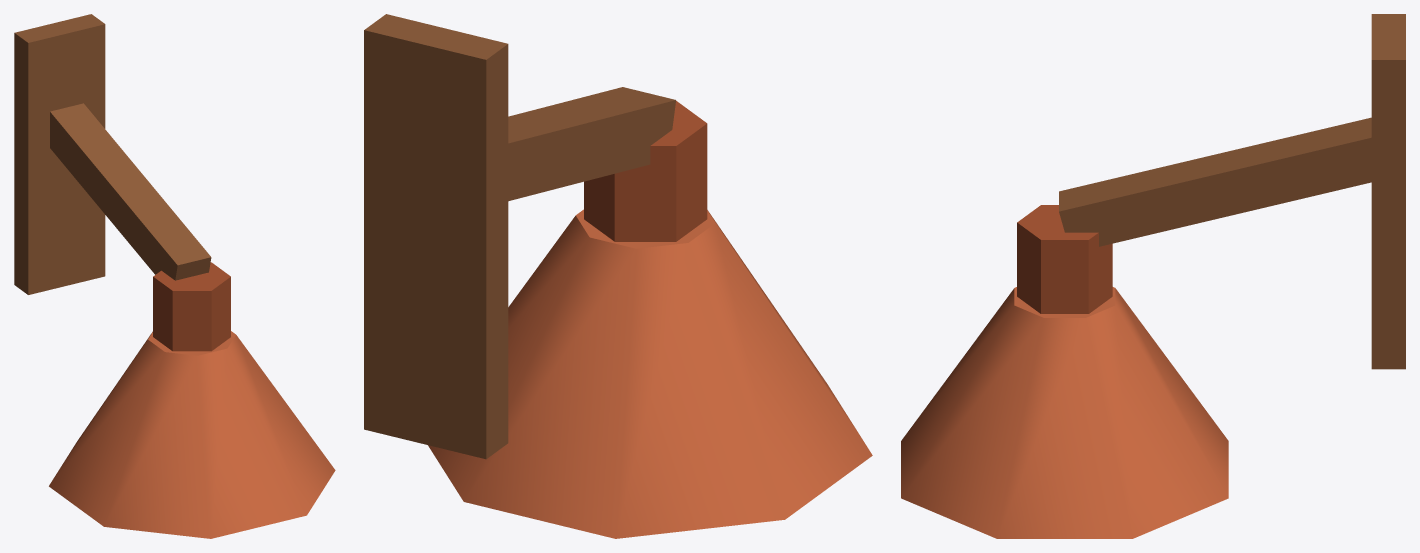
File: terrarium_lamp_teal.glb
3 views of the same model, side by side, from view 1: azimuth 30°, elevation 25°; view 2: azimuth 150°, elevation 25°; view 3: azimuth 270°, elevation 25° (orthographic). The views are drawn at different scales.
Parts seen in each view (by area): view 1: terrarium_lamp_teal; view 2: terrarium_lamp_teal; view 3: terrarium_lamp_teal.
Part boxes in pixels (x1,y1,x2,y2): terrarium_lamp_teal: (14,14,335,538); terrarium_lamp_teal: (364,14,872,538); terrarium_lamp_teal: (901,14,1405,538).
Bounding box in the file's own units: 0.4804 × 0.8 × 0.7402.
2 materials, 2 textured.
